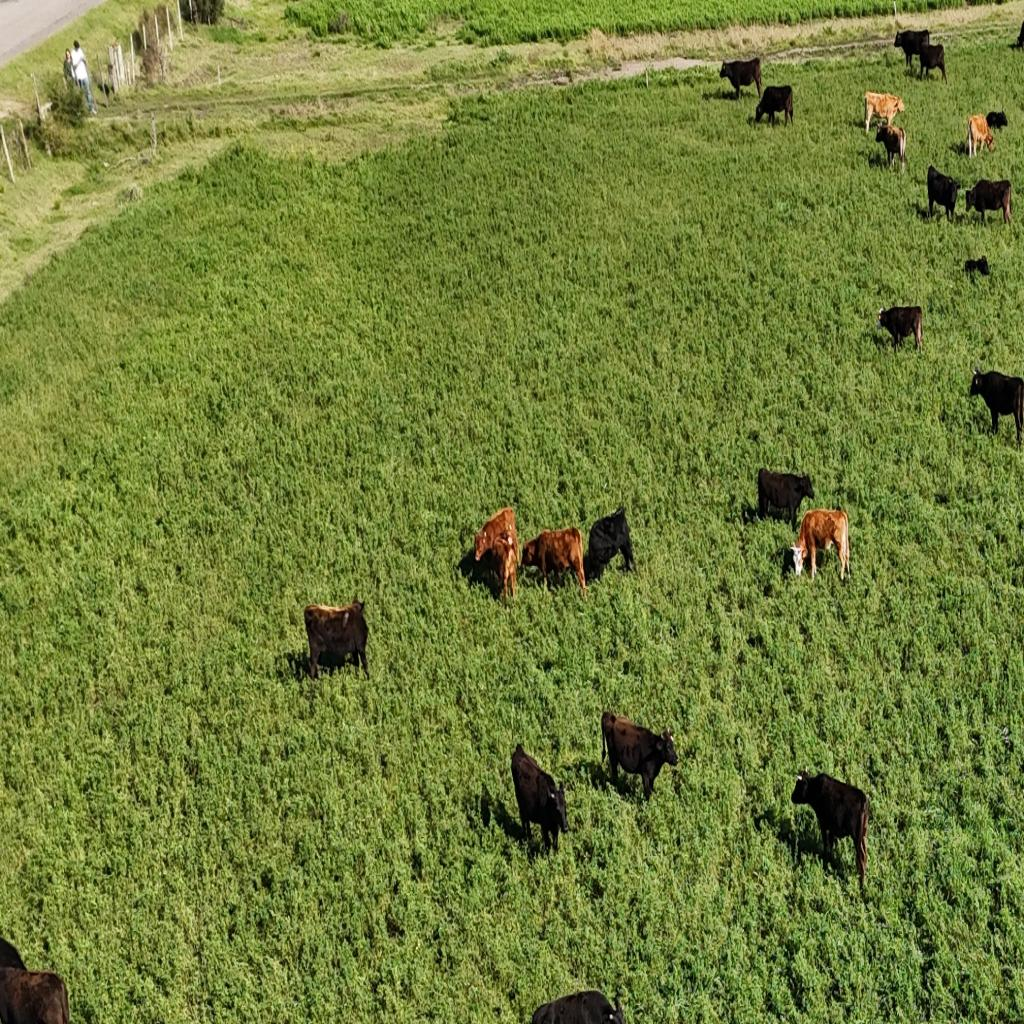cow: (790, 770, 869, 886), (773, 492, 855, 581), (600, 712, 678, 804), (510, 742, 570, 856), (303, 600, 370, 684), (750, 456, 820, 535), (522, 527, 587, 598), (473, 511, 520, 605), (969, 367, 1024, 446), (0, 964, 70, 1024), (586, 504, 638, 583), (965, 168, 1023, 233), (746, 78, 805, 136), (532, 989, 625, 1023), (876, 302, 924, 354), (718, 58, 763, 112), (923, 167, 963, 226), (863, 82, 909, 132), (487, 540, 517, 610), (876, 124, 908, 174), (894, 28, 930, 72), (916, 41, 947, 83), (966, 113, 994, 158), (964, 256, 990, 278), (1008, 13, 1024, 48), (986, 111, 1008, 131)
